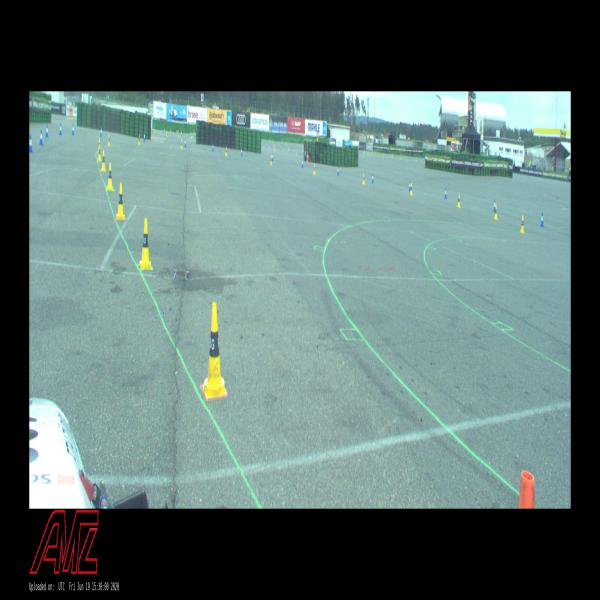blue_cone: (29, 134, 33, 152), (40, 130, 44, 145), (540, 212, 544, 227), (46, 125, 49, 137), (371, 173, 374, 183), (301, 158, 304, 168), (445, 187, 447, 199), (60, 123, 62, 135), (494, 200, 496, 211), (72, 124, 74, 135), (337, 166, 339, 176), (144, 132, 146, 142), (408, 181, 410, 191), (241, 147, 243, 156), (184, 138, 186, 147), (100, 127, 102, 136), (212, 142, 214, 151), (272, 152, 273, 160)
yellow_cone: (202, 302, 227, 398), (138, 218, 153, 269), (116, 183, 126, 220), (106, 163, 114, 190), (101, 150, 106, 172), (520, 215, 524, 233), (494, 205, 498, 220), (98, 145, 101, 161), (410, 183, 413, 195), (362, 174, 365, 184), (458, 195, 460, 208), (98, 139, 100, 152), (108, 134, 110, 146), (226, 146, 228, 157), (138, 134, 140, 145), (314, 164, 316, 175), (181, 140, 183, 150), (270, 155, 272, 165)
